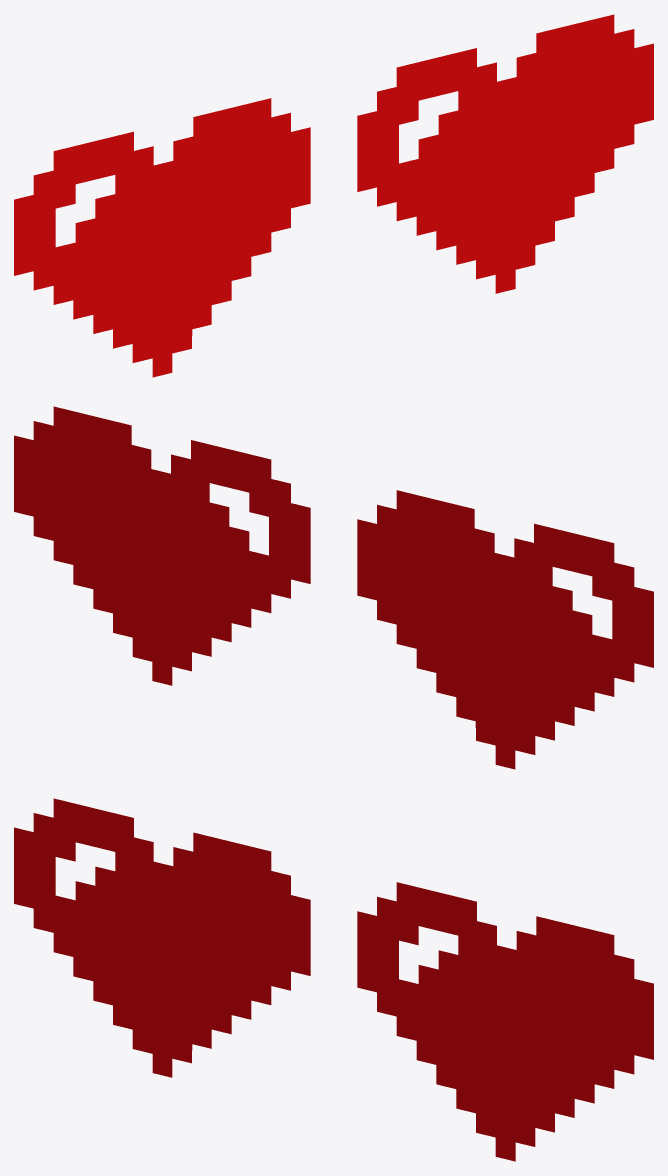
The model's file is 2Lives.fbx.
3 renders of one model, top to bottom at view 1: azimuth 30°, elevation 25°; view 2: azimuth 150°, elevation 25°; view 3: azimuth 330°, elevation 25°, orthographic.
Visible parts, largest first — view 1: path21.010; view 2: path21.010; view 3: path21.010.
Part boxes in pixels (x1,y1,x2,y2): path21.010: (14, 14, 653, 377); path21.010: (14, 406, 653, 769); path21.010: (14, 798, 653, 1161).
Bounding box in the file's own units: 20.51 × 7.67 × 3.35e-07.
